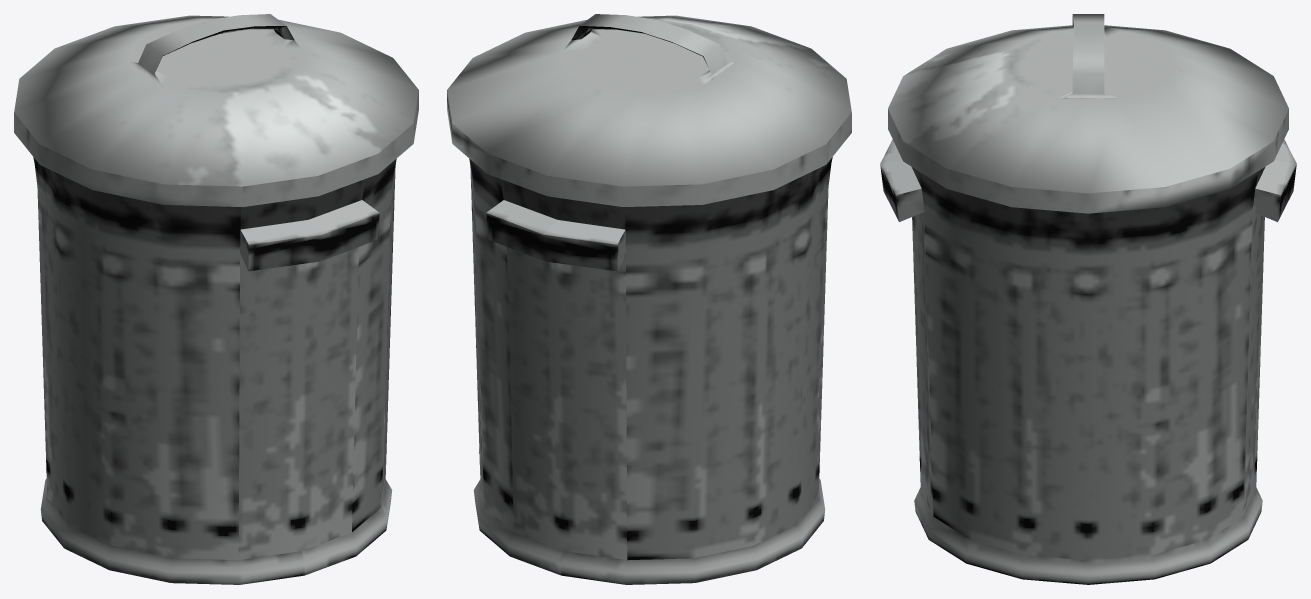
The model's file is TrashCan2.fbx.
3 renders of one model, left to right at view 1: azimuth 30°, elevation 25°; view 2: azimuth 150°, elevation 25°; view 3: azimuth 270°, elevation 25°, orthographic.
Visible parts, largest first — view 1: TrashCan4:pCylinder4; view 2: TrashCan4:pCylinder4; view 3: TrashCan4:pCylinder4.
Part boxes in pixels (bbox=[...]): TrashCan4:pCylinder4: bbox=[14, 14, 418, 584]; TrashCan4:pCylinder4: bbox=[447, 14, 851, 584]; TrashCan4:pCylinder4: bbox=[880, 14, 1296, 584].
Size of the model in its own units: 154 by 203 by 160.
